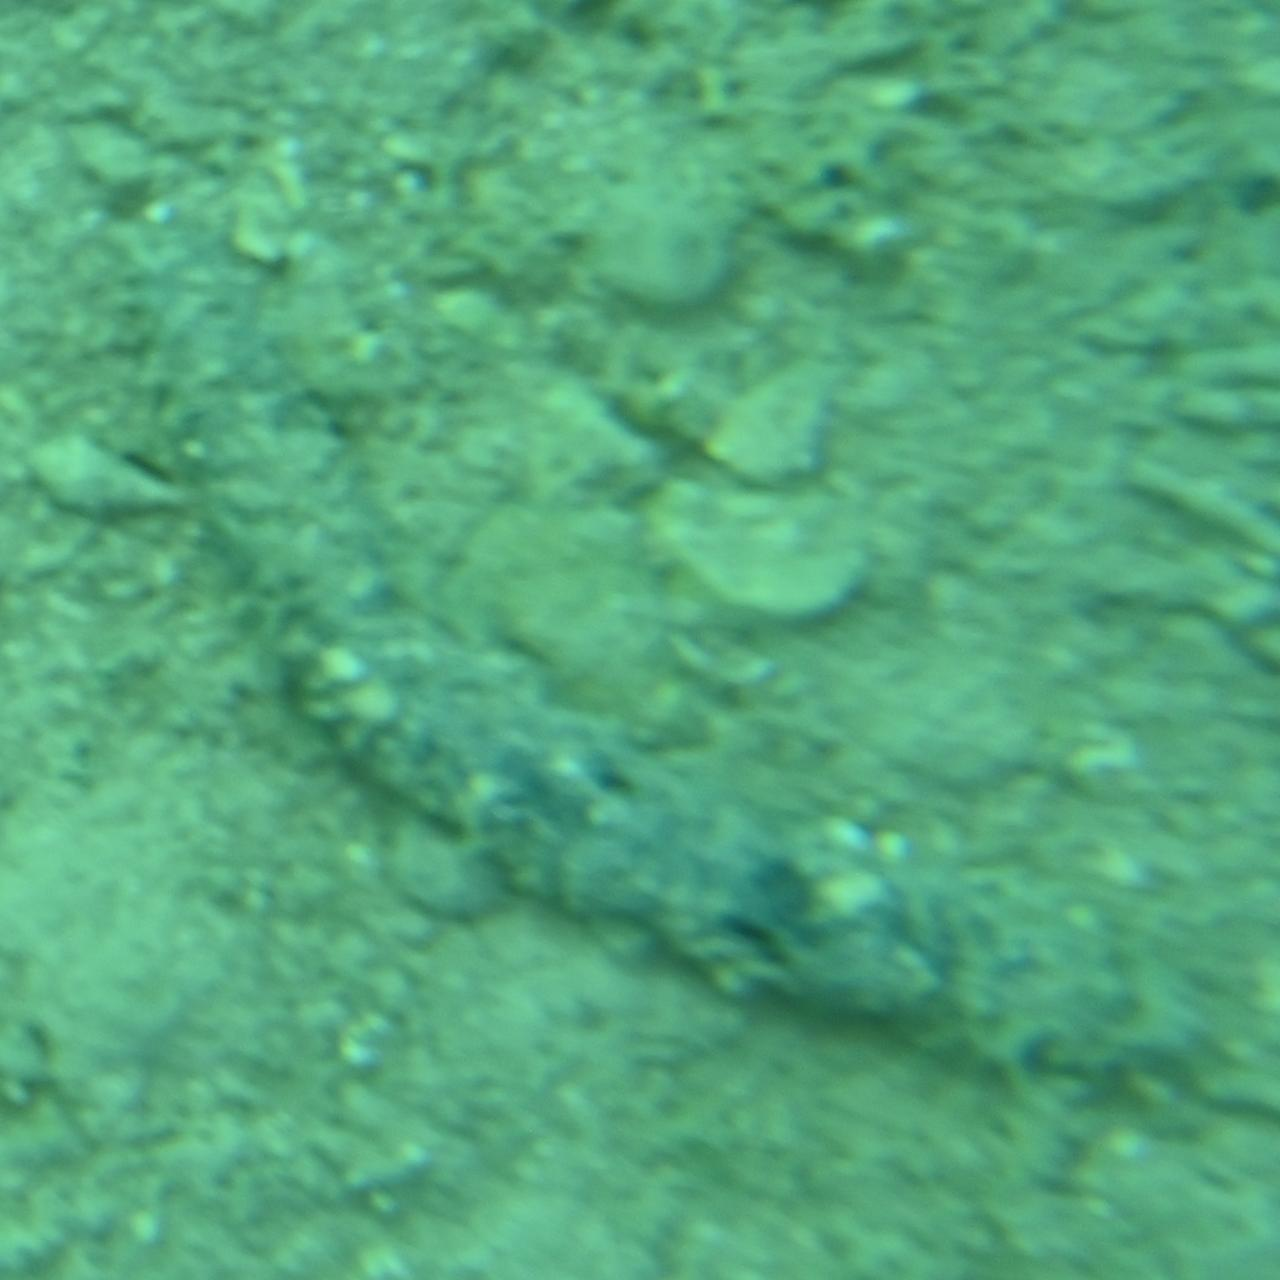Holothuria tubulosa: (106, 205, 1174, 1075)
